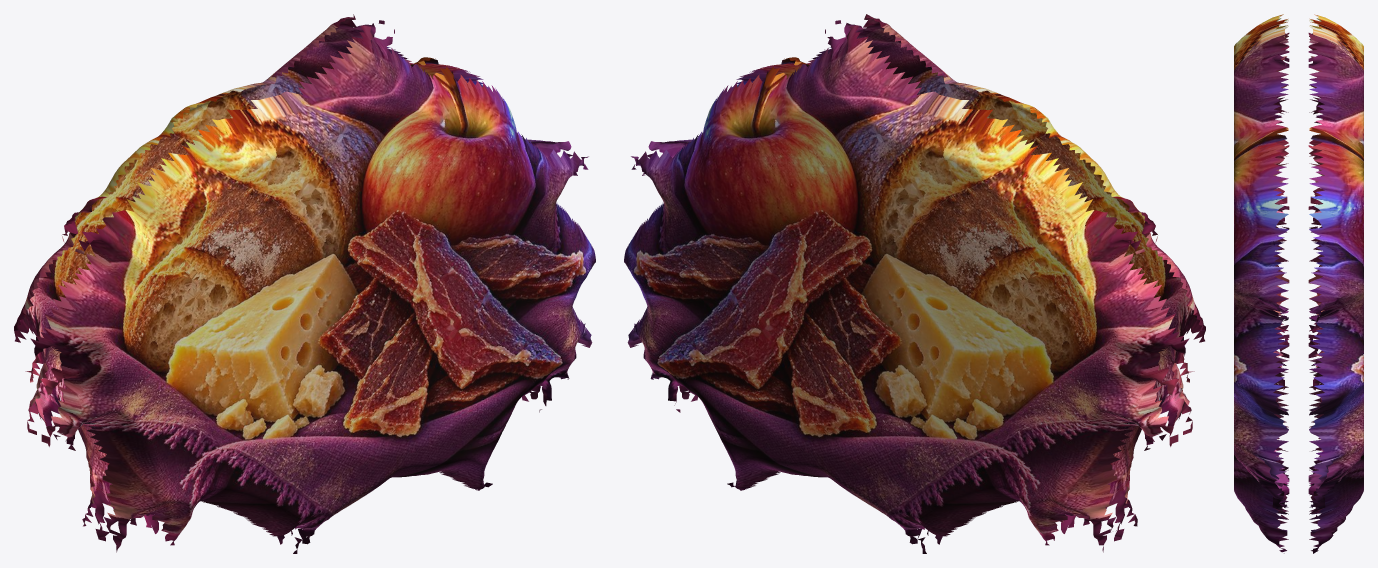
The model's file is v4-item-rations.glb.
3 views of the same model, side by side, from view 1: azimuth 30°, elevation 25°; view 2: azimuth 150°, elevation 25°; view 3: azimuth 270°, elevation 25° (orthographic). The views are drawn at different scales.
Parts seen in each view (by area): view 1: v4-item-rations; view 2: v4-item-rations; view 3: v4-item-rations.
Part boxes in pixels (x1,y1,x2,y2): v4-item-rations: (14,14,595,553); v4-item-rations: (624,14,1205,553); v4-item-rations: (1234,14,1363,553).
Size of the model in its own units: 1.13 by 0.986 by 0.24.
Materials: 1 (1 with a texture image).
